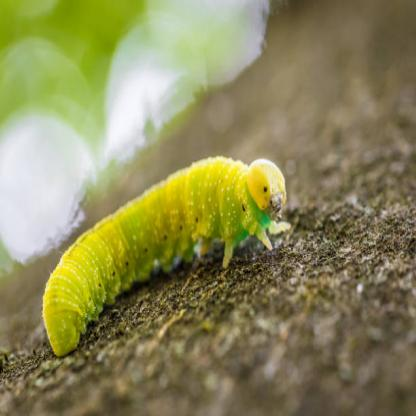sawfly: (38, 152, 302, 361)
